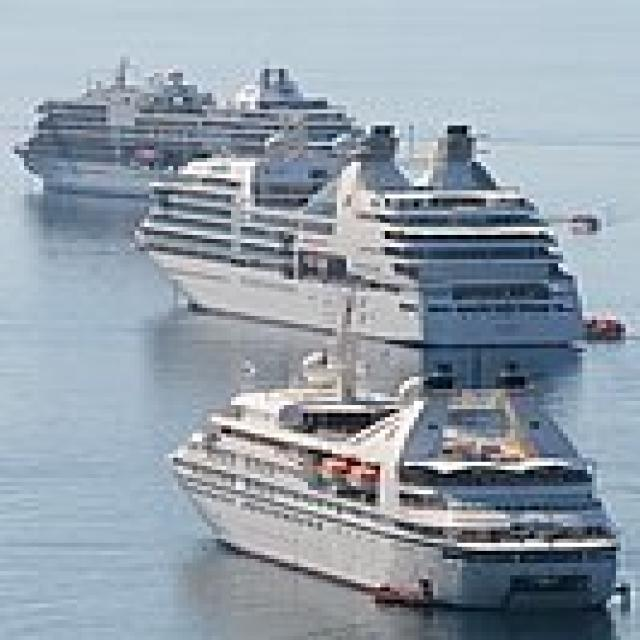Cruise: (154, 336, 626, 616), (116, 113, 587, 344), (0, 48, 371, 198)
